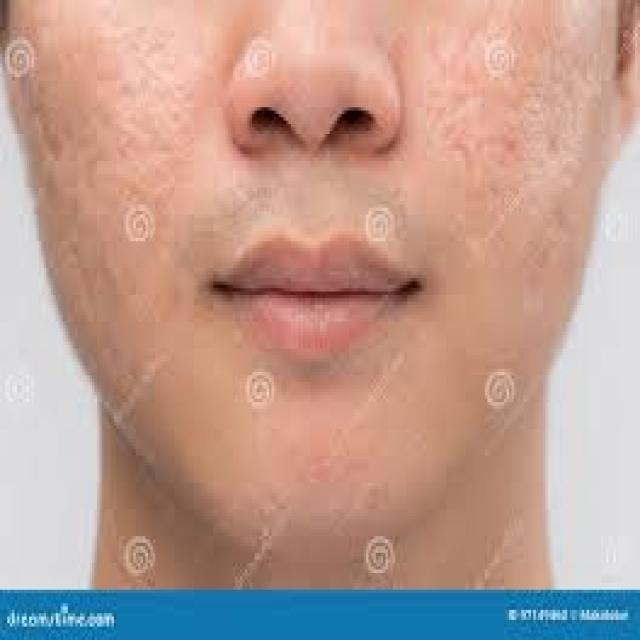oily: (86, 24, 186, 200)
pores: (454, 47, 584, 230)
